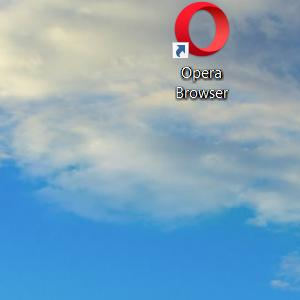opera: (171, 2, 230, 59)
